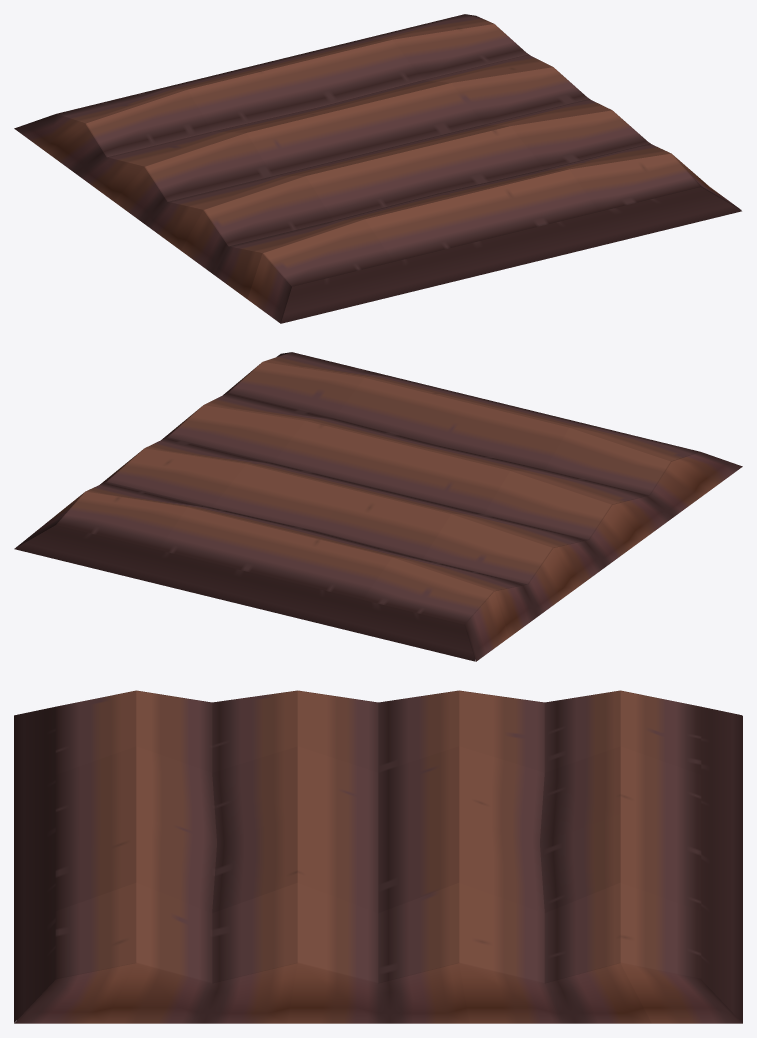
File: Nuevo Sembradio.fbx
3 views of the same model, one above another, from view 1: azimuth 30°, elevation 25°; view 2: azimuth 150°, elevation 25°; view 3: azimuth 270°, elevation 25° (orthographic). The views are drawn at different scales.
Parts seen in each view (by area): view 1: Cube; view 2: Cube; view 3: Cube.
Part boxes in pixels (<box>): Cube: <box>14,14,741,323</box>; Cube: <box>14,352,742,661</box>; Cube: <box>14,690,742,1023</box>.
Bounding box in the file's own units: 2500 × 2500 × 208.
Materials: 1 (1 with a texture image).
